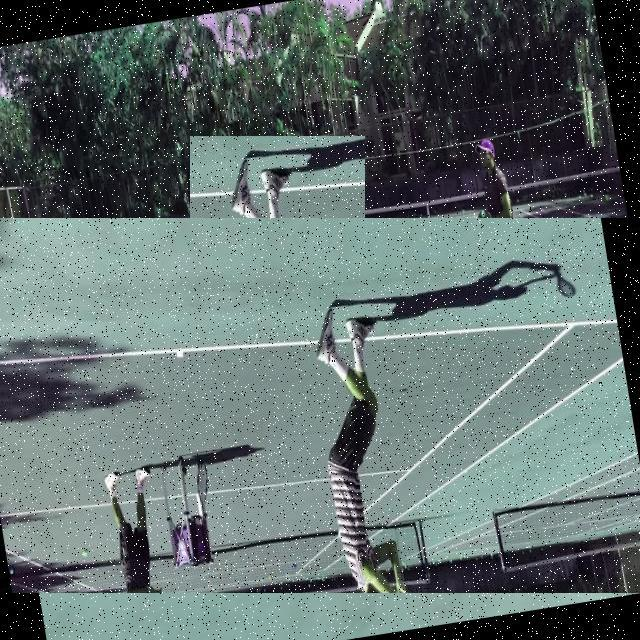court: (0, 218, 640, 593)
net: (196, 145, 630, 303)
player: (190, 136, 365, 526)
